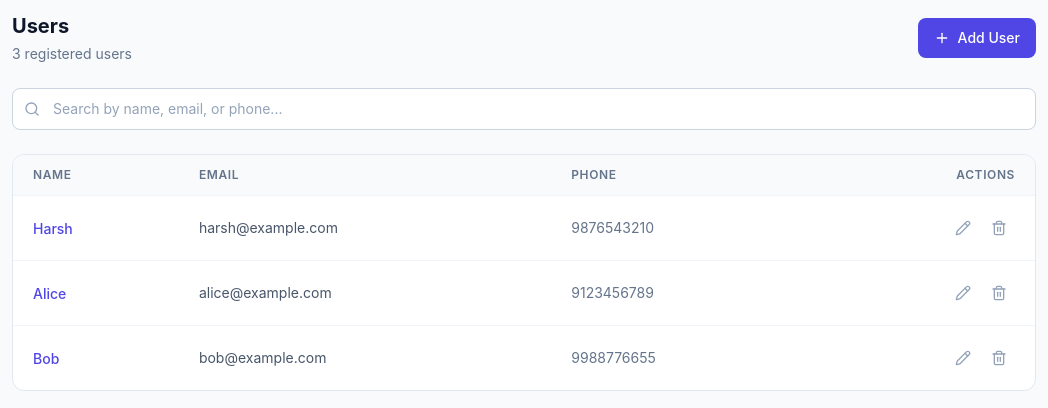
UsersPage › filters users by search (email)
Expected: the button "Harsh" is shown, [33,219,73,239]
Type "bob@example.com" into the field with placeholder "Search by name, email, or phone..." at (524, 109), box [12,88,1036,130]
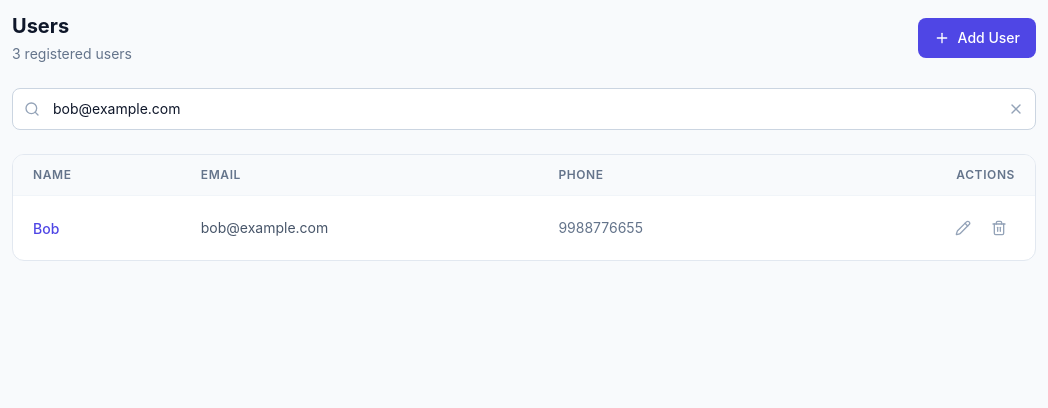
Expected: the button "Bob" is shown, [33,219,59,239]
Expected: the button "Harsh" is gone
